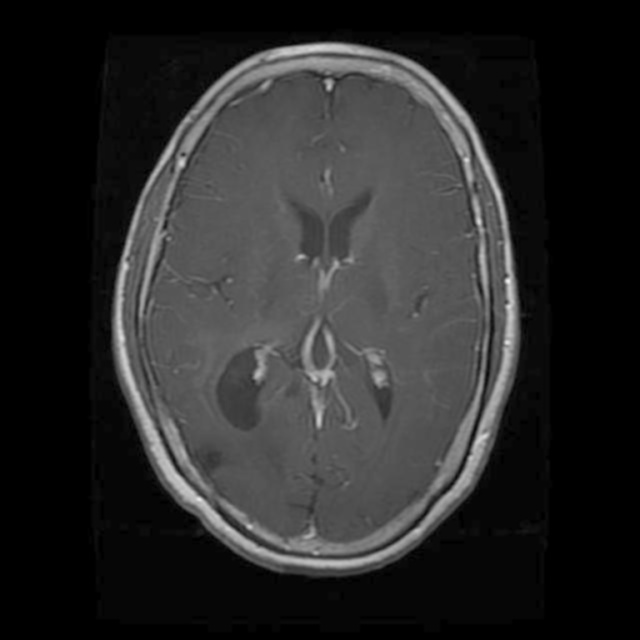pituitary tumor: (289, 317, 345, 398)
